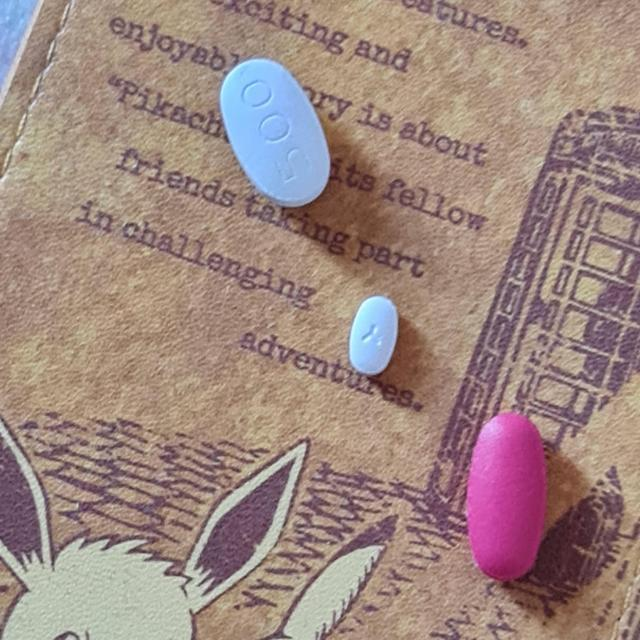pill: (222, 58, 330, 205), (468, 410, 543, 576), (352, 298, 397, 375)
